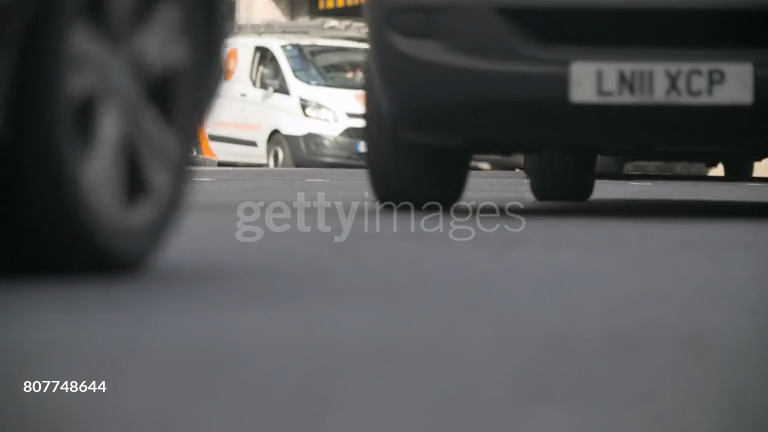car number: (564, 59, 751, 103)
